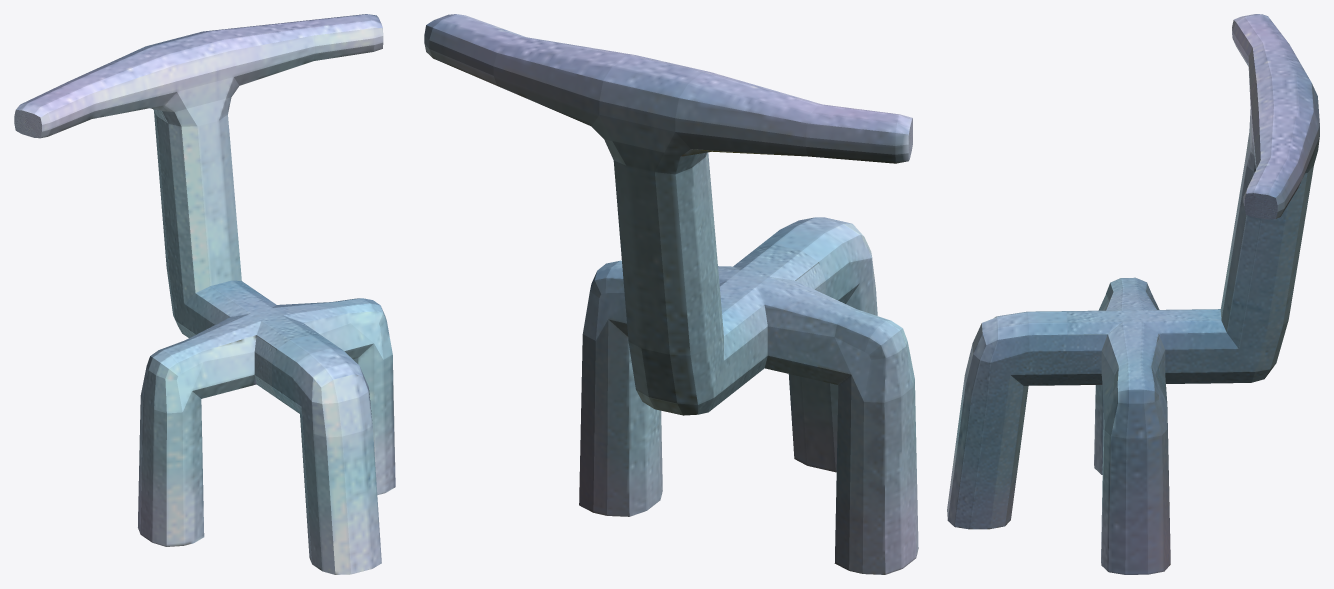
Rendered from LamiaLoungeChair.glb.
3 views of the same model, side by side, from view 1: azimuth 30°, elevation 25°; view 2: azimuth 150°, elevation 25°; view 3: azimuth 270°, elevation 25° (orthographic). The views are drawn at different scales.
Parts seen in each view (by area): view 1: 立方体.001; view 2: 立方体.001; view 3: 立方体.001.
Boxes of the visible parts, x1,y1,x2,y2 form: 立方体.001: (14, 14, 395, 574); 立方体.001: (424, 14, 918, 574); 立方体.001: (947, 14, 1319, 574).
Size of what is drawn, in the model's own units: 1.29 by 1.37 by 1.1.
1 material, 1 textured.
